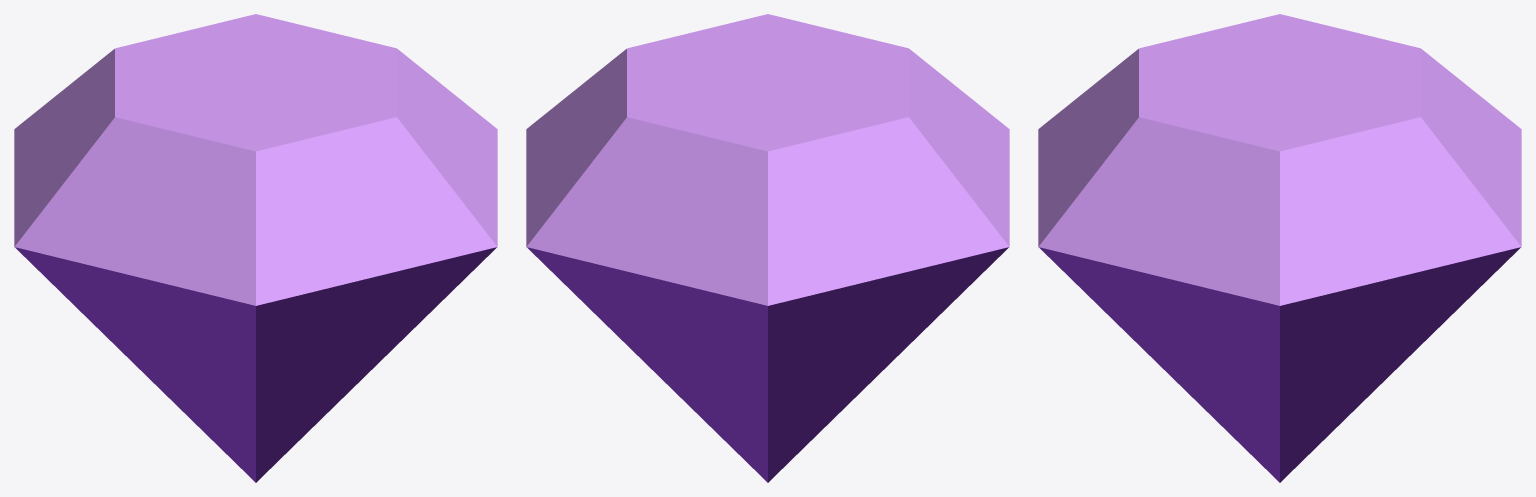
File: drop_gem_purple.glb
3 views of the same model, side by side, from view 1: azimuth 30°, elevation 25°; view 2: azimuth 150°, elevation 25°; view 3: azimuth 270°, elevation 25° (orthographic).
Parts seen in each view (by area): view 1: drop_gem_purple; view 2: drop_gem_purple; view 3: drop_gem_purple.
Part boxes in pixels (bbox=[...]): drop_gem_purple: bbox=[14, 14, 497, 482]; drop_gem_purple: bbox=[526, 14, 1009, 482]; drop_gem_purple: bbox=[1038, 14, 1521, 482].
Size of the model in its own units: 0.12 by 0.095 by 0.1039.
